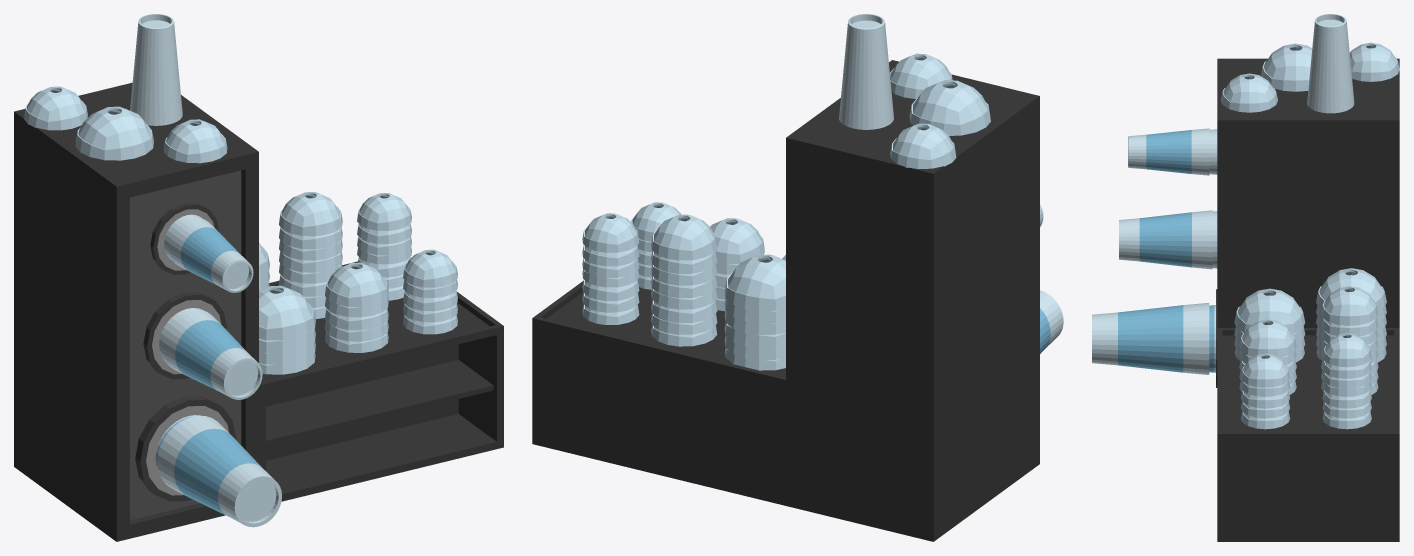
The model's file is Cup Dispensor #2.fbx.
The picture shows the model from 3 angles, left to right: view 1: azimuth 30°, elevation 25°; view 2: azimuth 150°, elevation 25°; view 3: azimuth 270°, elevation 25°; orthographic projection. The views are drawn at different scales.
Visible parts, largest first — view 1: Cup Dispensor #2; view 2: Cup Dispensor #2; view 3: Cup Dispensor #2.
Boxes of the visible parts, x1,y1,x2,y2 form: Cup Dispensor #2: (14, 14, 503, 541); Cup Dispensor #2: (532, 14, 1063, 541); Cup Dispensor #2: (1092, 14, 1399, 541).
Bounding box in the file's own units: 108 × 119 × 83.31.
1 material, 1 textured.
